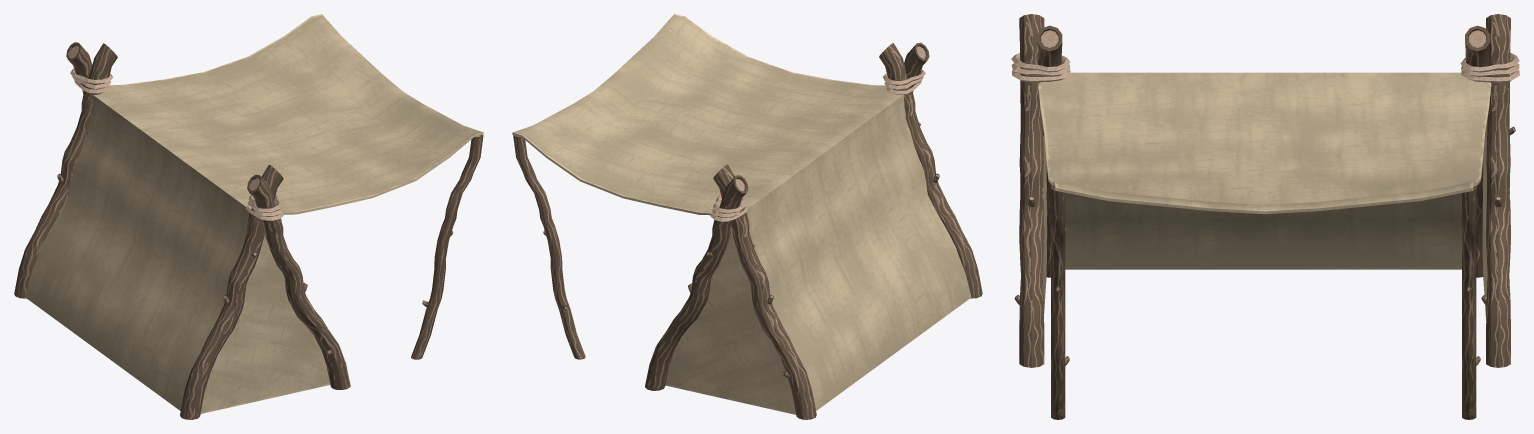
Rendered from tent_white.fbx.
3 views of the same model, side by side, from view 1: azimuth 30°, elevation 25°; view 2: azimuth 150°, elevation 25°; view 3: azimuth 270°, elevation 25° (orthographic). The views are drawn at different scales.
Parts seen in each view (by area): view 1: tent_white; view 2: tent_white; view 3: tent_white.
Part boxes in pixels (left/top/right/bottom): tent_white: left=14, top=14, right=483, bottom=419; tent_white: left=512, top=14, right=982, bottom=419; tent_white: left=1011, top=14, right=1519, bottom=419.
Size of the model in its own units: 324 by 234 by 362.
Materials: 1 (1 with a texture image).
